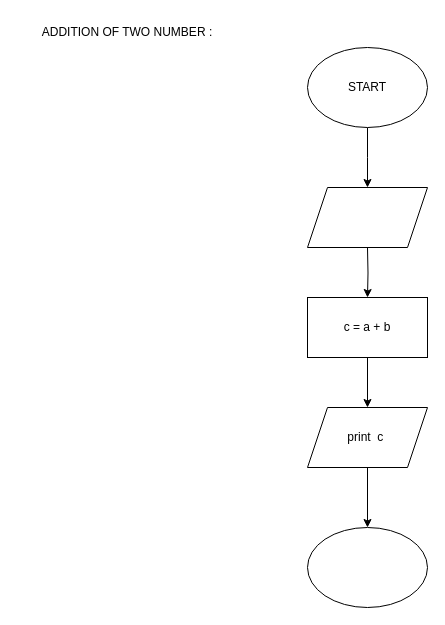
Some shapes in this 445 by 625 pixel diagram are drawn without their labels. Here are the shapes that lost their labels. From the top down, the centre of each, then its label:
[367,217]: Input = a, b var = c
[367,567]: END
